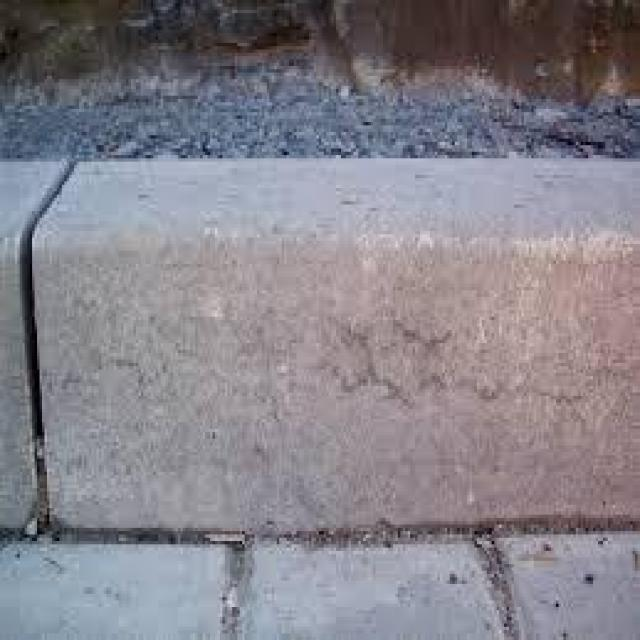curb: (1, 144, 640, 542)
